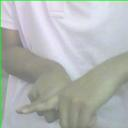hand: (23, 67, 127, 128), (17, 67, 73, 123)
